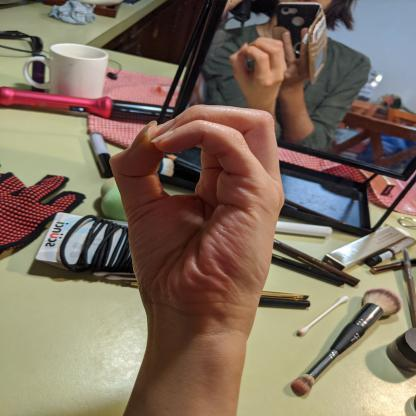O: (106, 101, 289, 342)
